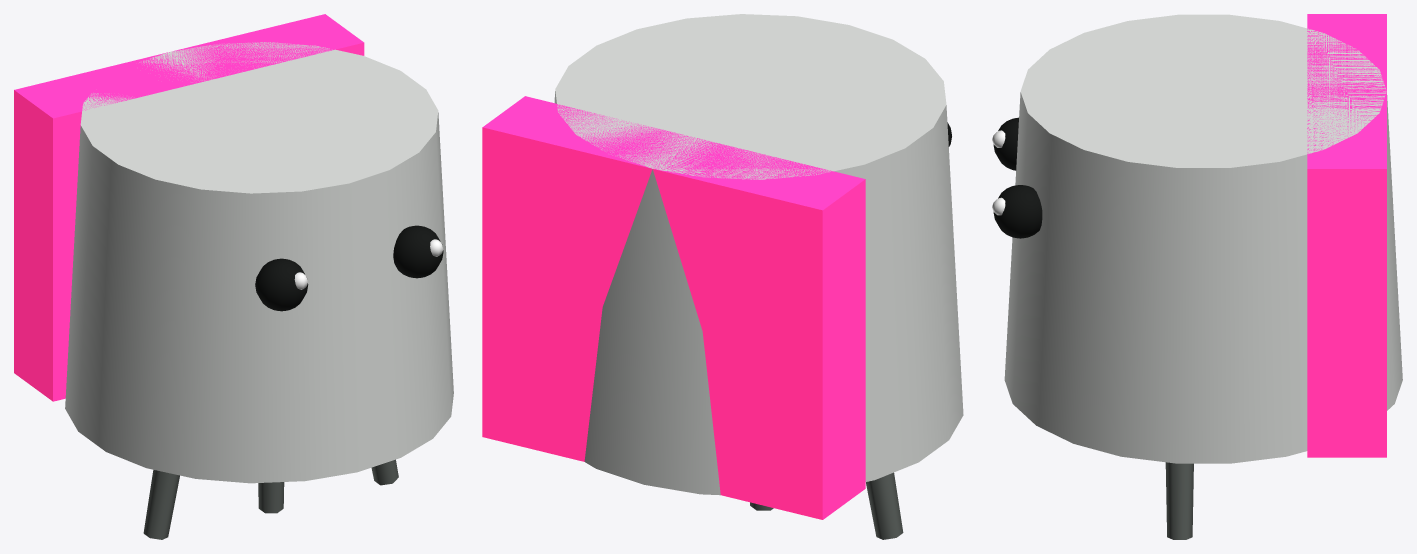
The model's file is transistor.glb.
3 views of the same model, side by side, from view 1: azimuth 30°, elevation 25°; view 2: azimuth 150°, elevation 25°; view 3: azimuth 270°, elevation 25° (orthographic). The views are drawn at different scales.
Size of the model in its own units: 2.47 by 2.7 by 2.58.
